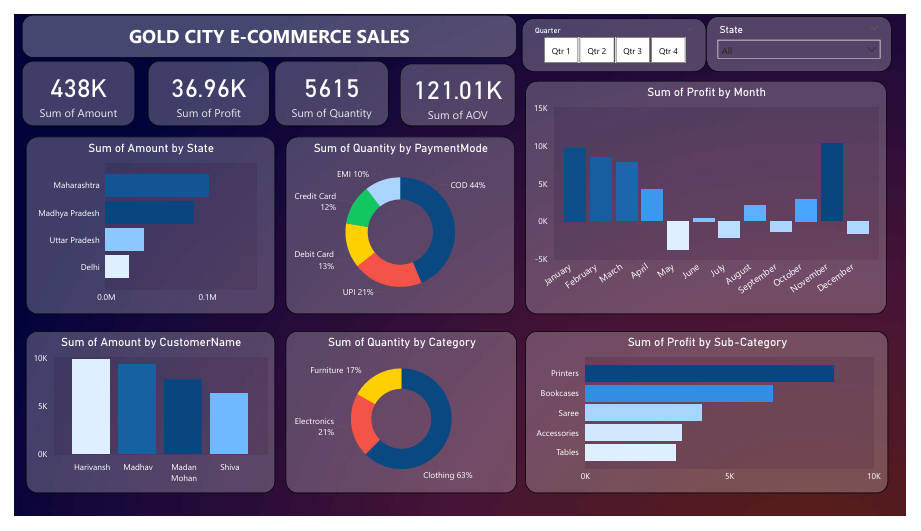

What the dashboard file says about the page in this screenshot:
{"tool":"powerbi","page":{"name":"Page 1","canvas":[1280,720],"ordinal":0},"visuals":[{"type":"textbox","box":[9.8,0,711.5,62.3],"z":0},{"type":"columnChart","fields":{"Category":["Orders.Order Date.Variation.Date Hierarchy.Month"],"Y":["Details.Profit"]},"box":[732.8,95.1,519.7,334.4],"z":1000},{"type":"barChart","fields":{"Category":["Details.Sub-Category"],"Y":["Details.Profit"]},"box":[732.8,454.1,521.3,232.8],"z":2000},{"type":"donutChart","fields":{"Category":["Details.Category"],"Y":["Details.Quantity"]},"box":[388.5,454.1,332.8,232.8],"z":3000},{"type":"donutChart","fields":{"Category":["Details.PaymentMode"],"Y":["Details.Quantity"]},"box":[388.5,175.4,329.5,254.1],"z":4000},{"type":"card","fields":{"Values":["Details.Amount"]},"box":[10,65.7,162.9,94.3],"z":5000},{"type":"card","fields":{"Values":["Details.AOV"]},"box":[552.9,70,165.7,90],"z":6000},{"type":"card","fields":{"Values":["Details.Quantity"]},"box":[372.9,65.7,164.3,94.3],"z":7000},{"type":"card","fields":{"Values":["Details.Profit"]},"box":[191.4,65.7,174.3,94.3],"z":8000},{"type":"barChart","fields":{"Category":["Orders.State"],"Y":["Details.Amount"]},"box":[16.4,175.4,357.4,254.1],"z":9000},{"type":"columnChart","fields":{"Category":["Orders.CustomerName"],"Y":["Details.Amount"]},"box":[16.4,454.1,357.4,232.8],"z":9001},{"type":"slicer","fields":{"Values":["Orders.Order Date.Variation.Date Hierarchy.Quarter"]},"box":[727.9,4.9,265.6,77],"z":9002},{"type":"slicer","fields":{"Values":["Orders.State"]},"box":[993.4,1.6,265.6,80.3],"z":9003}]}

Visuals, with their boxes in screenshot pixels (x1, y1, x2, y2), scaled from the page's 1280x720 canvas onto the 921x531 screenshot:
textbox: <region>7, 0, 519, 46</region>
columnChart - Orders.Order Date.Variation.Date Hierarchy.Month x Details.Profit: <region>527, 70, 901, 317</region>
barChart - Details.Sub-Category x Details.Profit: <region>527, 335, 902, 507</region>
donutChart - Details.Category x Details.Quantity: <region>280, 335, 519, 507</region>
donutChart - Details.PaymentMode x Details.Quantity: <region>280, 129, 517, 317</region>
card - Details.Amount: <region>7, 48, 124, 118</region>
card - Details.AOV: <region>398, 52, 517, 118</region>
card - Details.Quantity: <region>268, 48, 387, 118</region>
card - Details.Profit: <region>138, 48, 263, 118</region>
barChart - Orders.State x Details.Amount: <region>12, 129, 269, 317</region>
columnChart - Orders.CustomerName x Details.Amount: <region>12, 335, 269, 507</region>
slicer - Orders.Order Date.Variation.Date Hierarchy.Quarter: <region>524, 4, 715, 60</region>
slicer - Orders.State: <region>715, 1, 906, 60</region>
